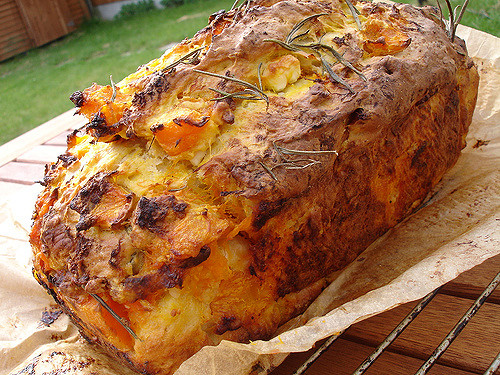slice of bread: (43, 12, 482, 368)
